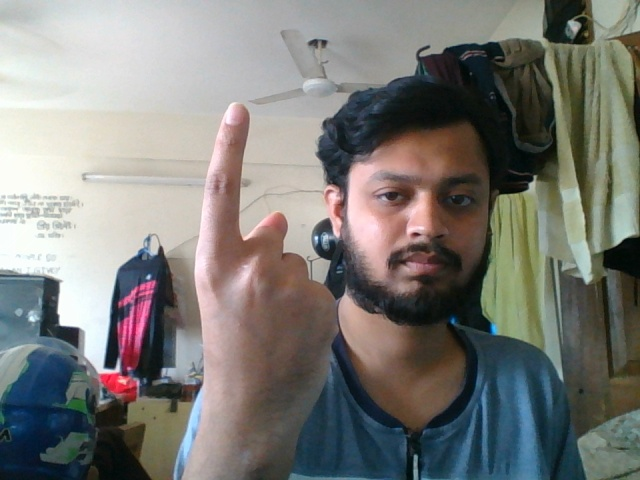u: (186, 95, 348, 480)
